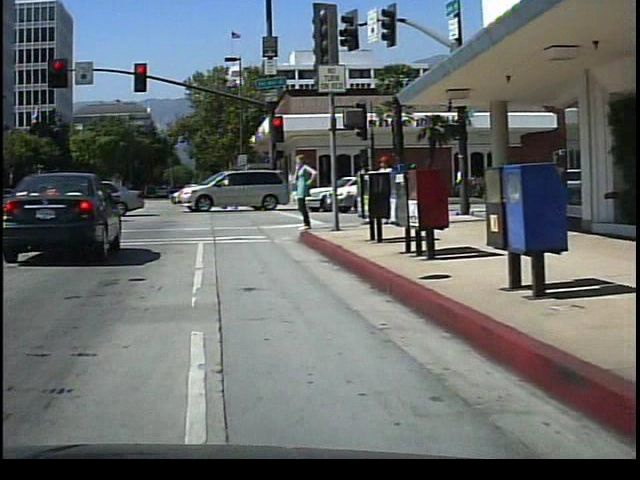person: (290, 147, 321, 233), (372, 149, 400, 225), (348, 149, 371, 216)
